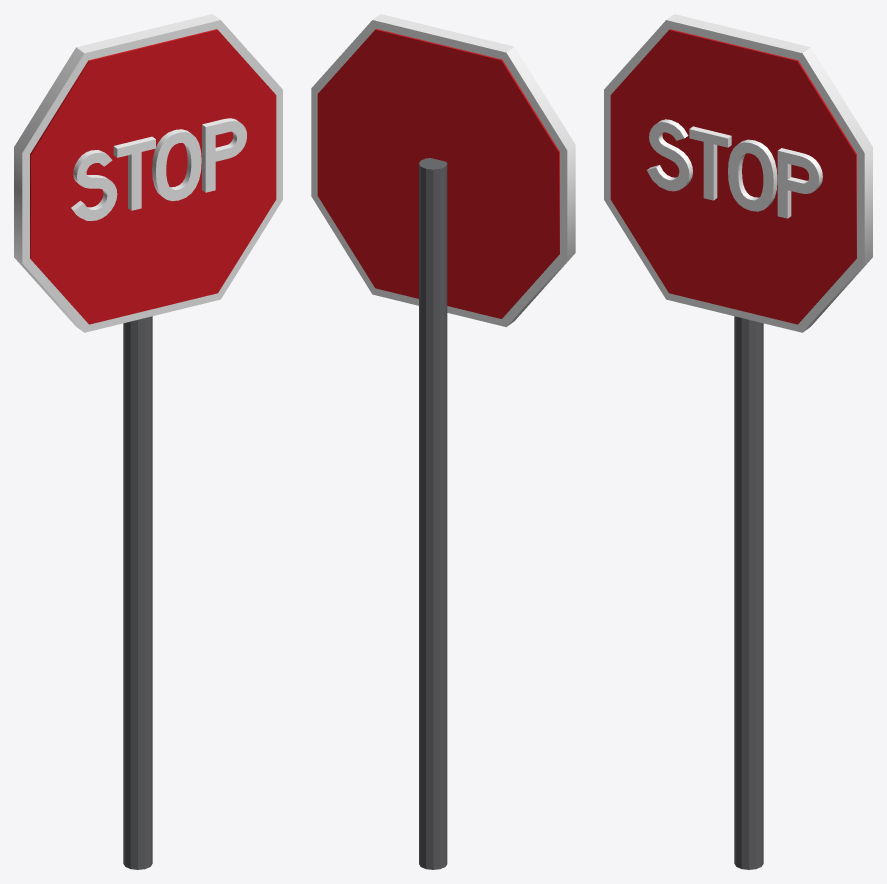
File: Stop Sign.fbx
The picture shows the model from 3 angles, left to right: view 1: azimuth 30°, elevation 25°; view 2: azimuth 150°, elevation 25°; view 3: azimuth 330°, elevation 25°; orthographic projection.
Parts seen in each view (by area): view 1: Stop_Sign; view 2: Stop_Sign; view 3: Stop_Sign.
Part boxes in pixels (x1,y1,x2,y2): Stop_Sign: (14,14,282,869); Stop_Sign: (311,14,575,869); Stop_Sign: (604,14,872,869).
Size of the model in its own units: 81.17 by 249 by 14.45.
